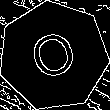O_S: (24, 25, 83, 88)
